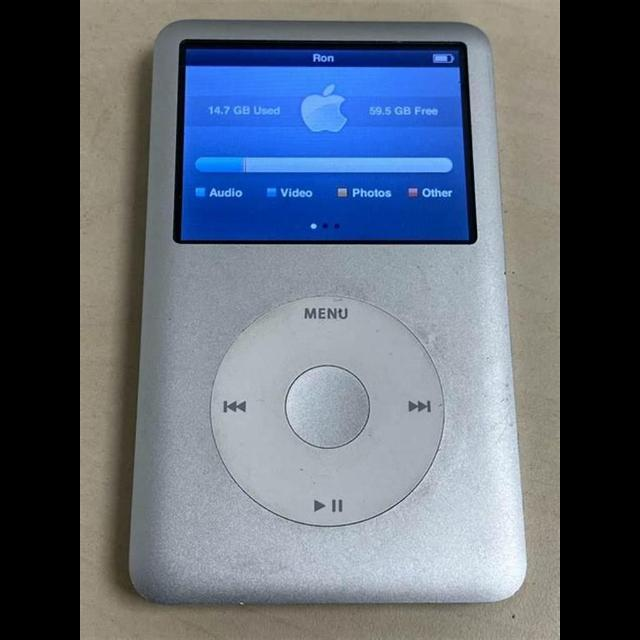Music-Player: (122, 13, 538, 619)
